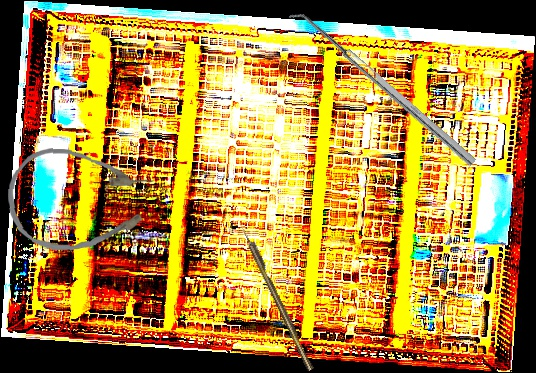Cannula: (5, 146, 156, 255)
Hook Surgical: (237, 220, 315, 373)
Spatula Surgical: (286, 5, 477, 174)
